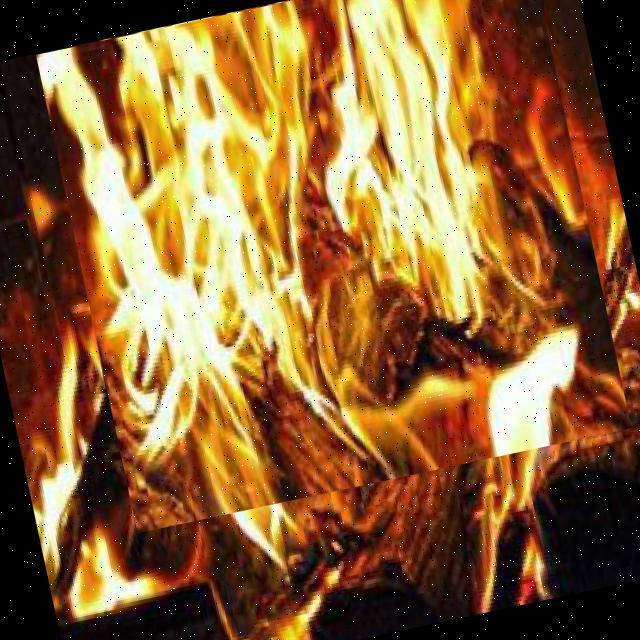fire: (35, 0, 631, 532)
